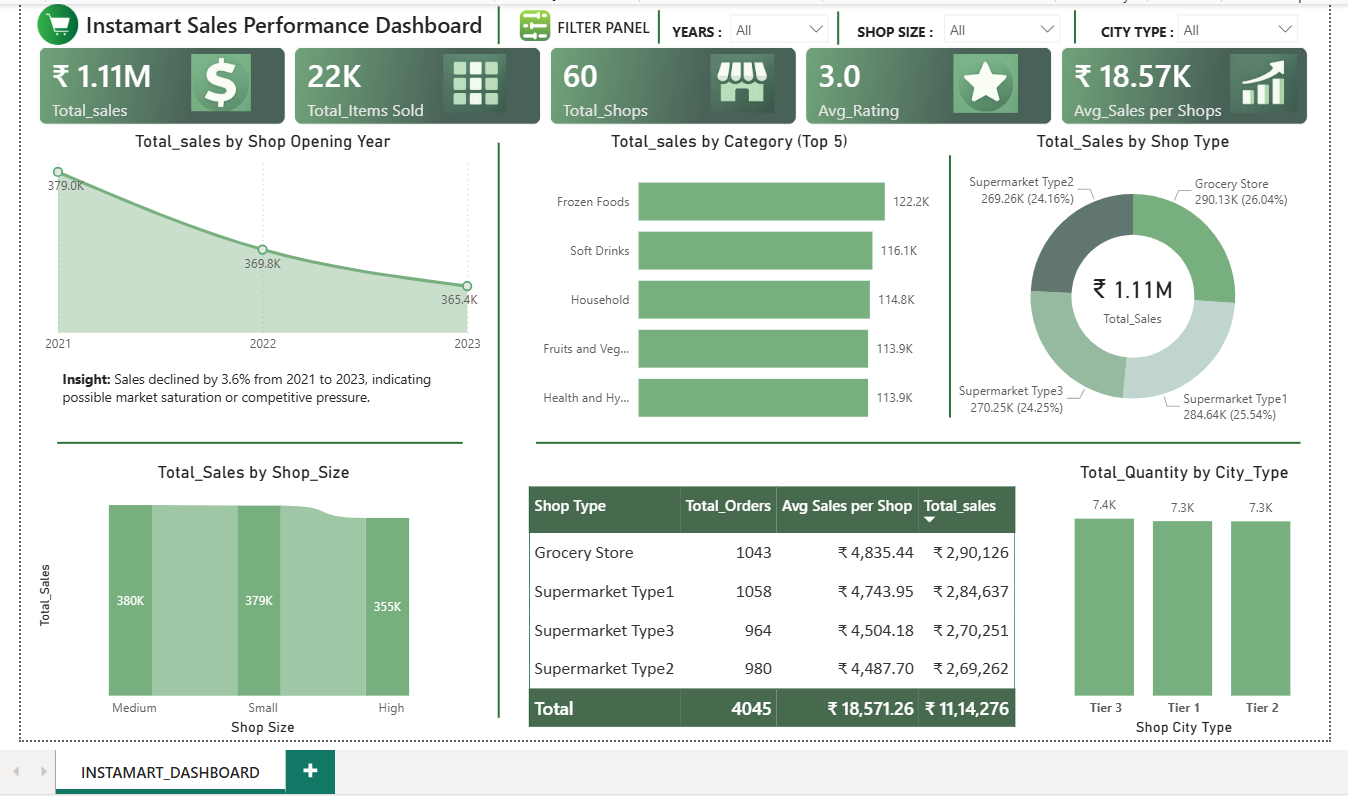

The page's visual inventory and layout, read from the dashboard file:
{"tool":"powerbi","page":{"name":"Page 1","canvas":[1280,720],"ordinal":1},"visuals":[{"type":"image","box":[0,0,71.2,40],"z":0},{"type":"textbox","box":[59,0,408.9,39.8],"z":1000},{"type":"cardVisual","fields":{"Data":["Instamart_Data.Total_sales","Instamart_Data.Total_Items","Instamart_Data.Total_Shops","Instamart_Data.Avg_Rating","Instamart_Data.Avg Sales per Shop"]},"box":[0,25,1280,111.2],"z":2000},{"type":"image","box":[155.3,48.9,80.7,56.3],"z":3000},{"type":"image","box":[398.6,48.9,90.5,57.5],"z":4000},{"type":"image","box":[668.9,48.9,73.4,57.5],"z":5000},{"type":"image","box":[907.3,48.9,73.4,57.5],"z":6000},{"type":"image","box":[1178.8,48.9,73.4,57.5],"z":7000},{"type":"stackedAreaChart","fields":{"Category":["Instamart_Data.Shop Opening Year"],"Y":["Instamart_Data.Total_sales"]},"box":[18.2,123.4,436.4,227.3],"z":8000},{"type":"clusteredBarChart","title":"Total_sales by Category (Top 5)","fields":{"Category":["Instamart_Data.Category"],"Y":["Instamart_Data.Total_sales"]},"box":[489.9,123.5,404.8,306],"z":9000},{"type":"donutChart","title":"Total_Sales by Shop Type","fields":{"Category":["Instamart_Data.Shop Type"],"Y":["Sum(Instamart_Data.Sales)"]},"box":[894.7,123.5,385.6,306],"z":10000},{"type":"ribbonChart","title":"Total_Sales by Shop_Size","fields":{"Category":["Instamart_Data.Shop Size"],"Y":["Sum(Instamart_Data.Sales)"]},"box":[12.3,447.3,430.9,273.1],"z":11000},{"type":"tableEx","fields":{"Values":["Instamart_Data.Shop Type","Instamart_Data.Total_Orders","Instamart_Data.Avg Sales per Shop","Instamart_Data.Total_sales"]},"box":[489.9,466.6,505,253.9],"z":12000},{"type":"card","fields":{"Values":["Sum(Instamart_Data.Sales)"]},"box":[1036.4,237.7,101.3,100],"z":13000},{"type":"columnChart","title":"Total_Quantity by City_Type","fields":{"Category":["Instamart_Data.Shop City Type"],"Y":["Sum(Instamart_Data.Quantity)"]},"box":[994.9,447.3,285.4,273.1],"z":14000},{"type":"shape","box":[432.2,135.8,71.4,562.6],"z":15000},{"type":"shape","box":[872.7,148.2,71.4,256.6],"z":16000},{"type":"shape","box":[35.7,406.2,396.6,46.7],"z":17000},{"type":"shape","box":[503.6,406.2,747.9,46.7],"z":18000},{"type":"shape","box":[432.2,2.7,71.4,37],"z":19000},{"type":"image","box":[476.2,1.4,54.9,39.8],"z":20000},{"type":"textbox","box":[520.1,6.9,135.8,35.7],"z":21000},{"type":"slicer","fields":{"Values":["Instamart_Data.Shop Opening Year"]},"box":[683.4,0,116.6,61.7],"z":22000},{"type":"textbox","box":[632.6,13.7,70,35.7],"z":23000},{"type":"slicer","fields":{"Values":["Instamart_Data.Shop Size"]},"box":[892.2,0,133.8,62.3],"z":24000},{"type":"slicer","fields":{"Values":["Instamart_Data.Shop City Type"]},"box":[1120.8,0,137.7,62.3],"z":25000},{"type":"textbox","box":[813,13,94.8,35.1],"z":26000},{"type":"textbox","box":[1051.9,13,94.8,35.1],"z":27000},{"type":"shape","box":[588.3,6.7,71.7,32.5],"z":28000},{"type":"shape","box":[763.6,7.8,72.7,32.5],"z":29000},{"type":"shape","box":[994.8,6.5,71.4,32.5],"z":30000},{"type":"textbox","box":[35.1,351.9,389.6,64.9],"z":31000}]}

Visuals, with their boxes on the page's 1280x720 design canvas (x1, y1, x2, y2). These are canvas units, not pixel positions in the 1348x796 screenshot, which may show the page scaled, cropped or inside an application window:
image: 0/0/71/40
textbox: 59/0/468/40
cardVisual - Instamart_Data.Total_sales x Instamart_Data.Total_Items: 0/25/1280/136
image: 155/49/236/105
image: 399/49/489/106
image: 669/49/742/106
image: 907/49/981/106
image: 1179/49/1252/106
stackedAreaChart - Instamart_Data.Shop Opening Year x Instamart_Data.Total_sales: 18/123/455/351
"Total_sales by Category (Top 5)" clusteredBarChart: 490/124/895/430
"Total_Sales by Shop Type" donutChart: 895/124/1280/430
"Total_Sales by Shop_Size" ribbonChart: 12/447/443/720
tableEx - Instamart_Data.Shop Type x Instamart_Data.Total_Orders: 490/467/995/720
card - Sum(Instamart_Data.Sales): 1036/238/1138/338
"Total_Quantity by City_Type" columnChart: 995/447/1280/720
shape: 432/136/504/698
shape: 873/148/944/405
shape: 36/406/432/453
shape: 504/406/1252/453
shape: 432/3/504/40
image: 476/1/531/41
textbox: 520/7/656/43
slicer - Instamart_Data.Shop Opening Year: 683/0/800/62
textbox: 633/14/703/49
slicer - Instamart_Data.Shop Size: 892/0/1026/62
slicer - Instamart_Data.Shop City Type: 1121/0/1258/62
textbox: 813/13/908/48
textbox: 1052/13/1147/48
shape: 588/7/660/39
shape: 764/8/836/40
shape: 995/6/1066/39
textbox: 35/352/425/417
